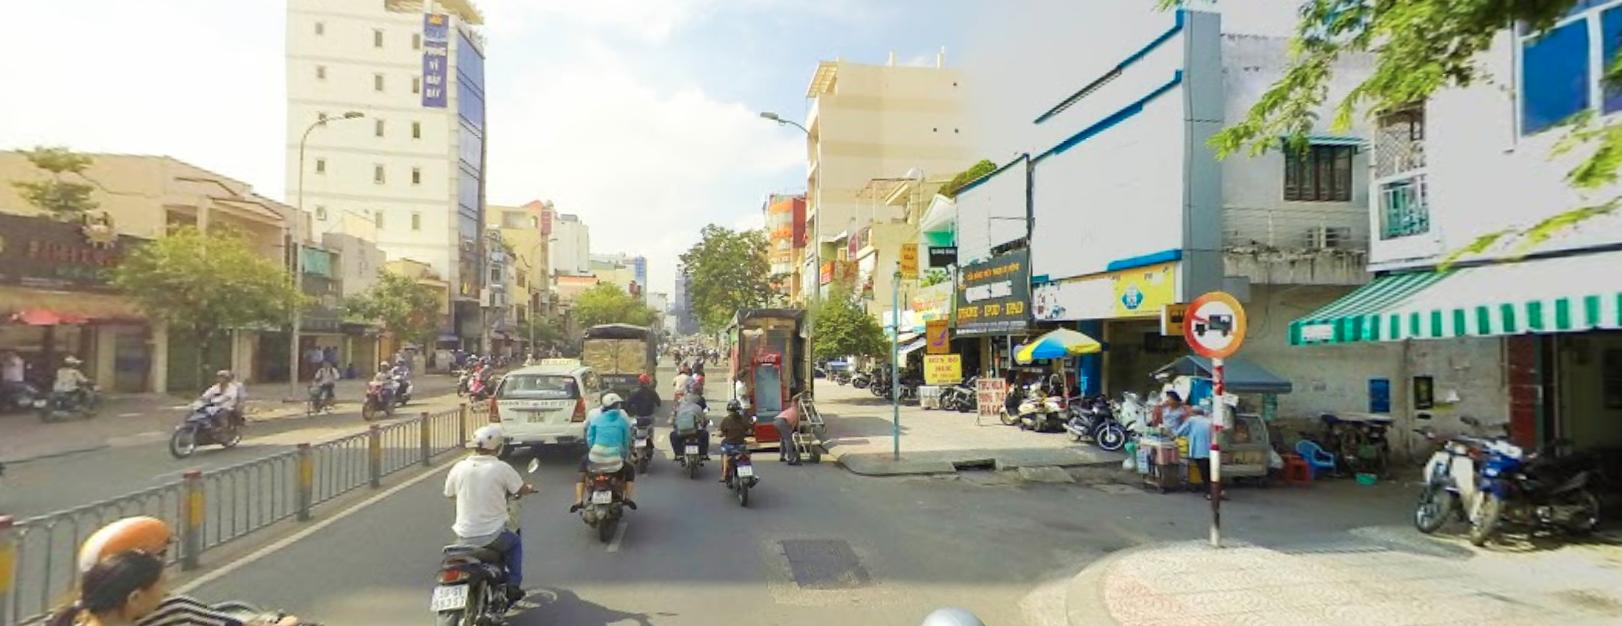Cam con lai: (1184, 289, 1246, 357)
